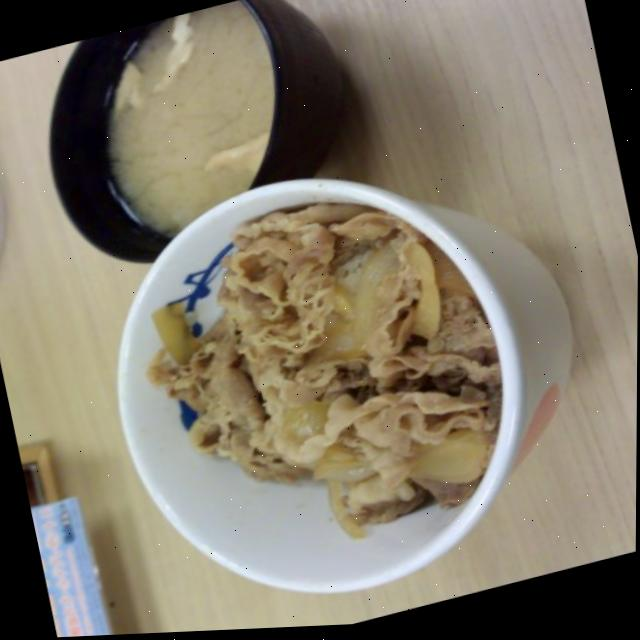汤锅炖物: (16, 0, 377, 289)
